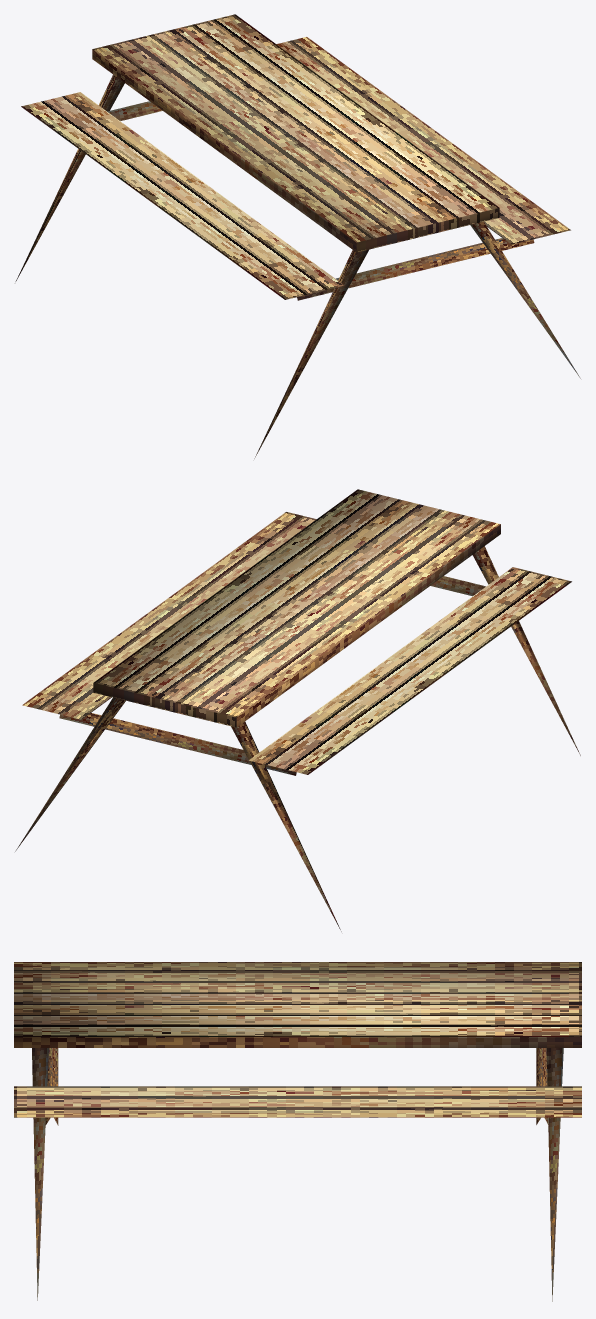
Rendered from USA - Prop - Long Table 01 - PATlongtbl.glb.
3 renders of one model, top to bottom at view 1: azimuth 30°, elevation 25°; view 2: azimuth 150°, elevation 25°; view 3: azimuth 270°, elevation 25°, orthographic. The views are drawn at different scales.
Parts seen in each view (by area): view 1: PATLONGTBL; view 2: PATLONGTBL; view 3: PATLONGTBL.
Part boxes in pixels (x1,y1,x2,y2): PATLONGTBL: [15, 14, 580, 458]; PATLONGTBL: [15, 489, 580, 931]; PATLONGTBL: [14, 962, 581, 1301].
Size of the model in its own units: 15.18 by 9 by 21.17.
1 material, 1 textured.
